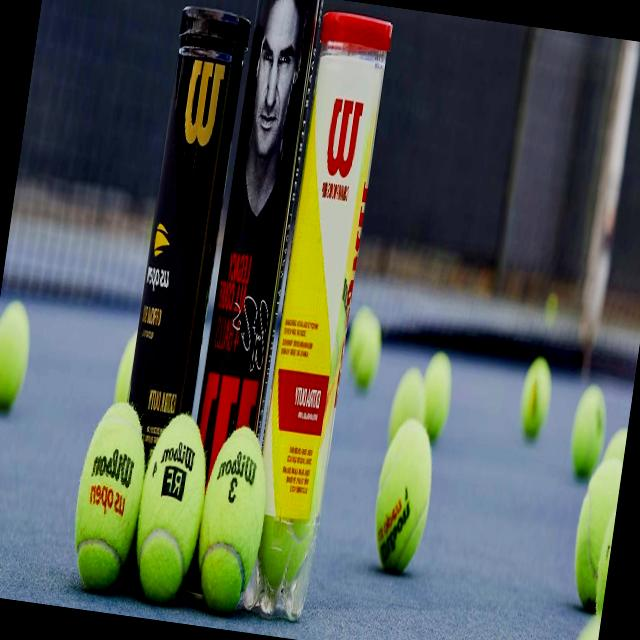ball: (127, 394, 218, 602), (364, 416, 442, 572)
